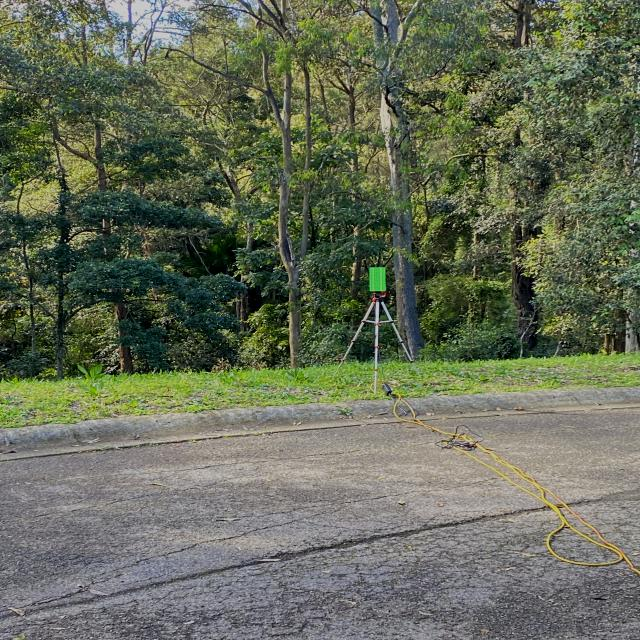matrix: (364, 265, 390, 297)
